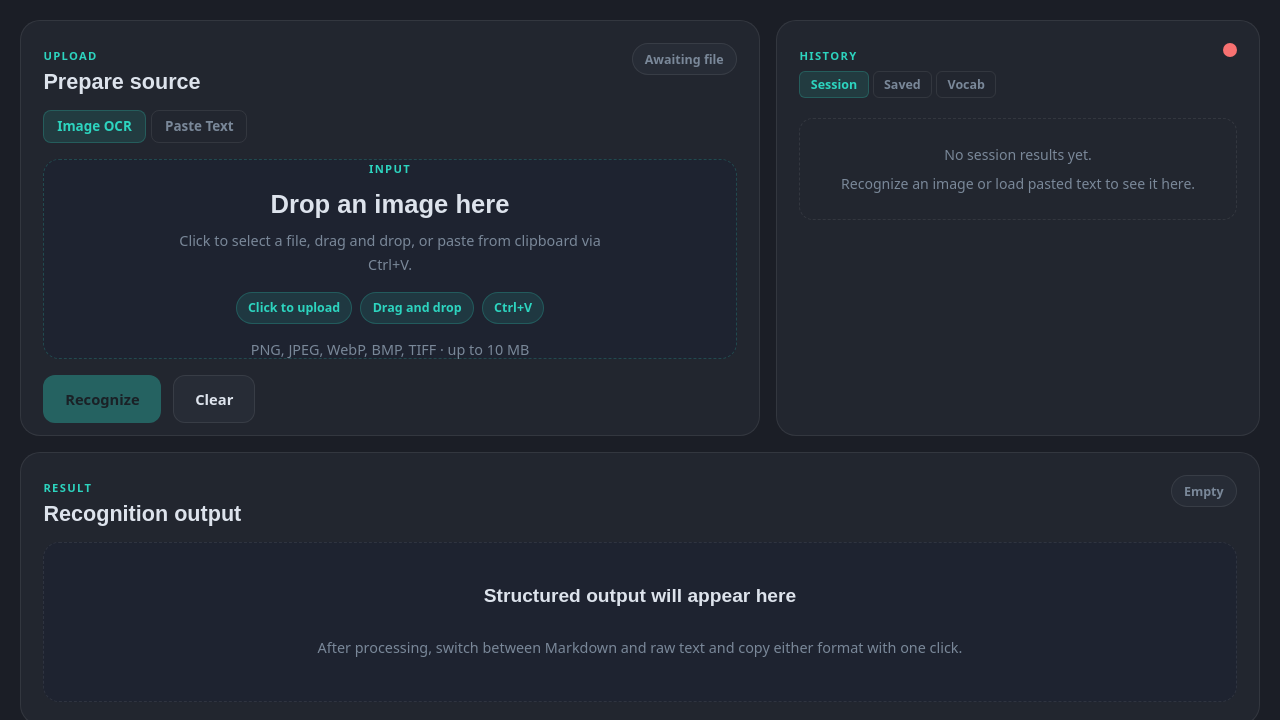
Scenario: App › switches back to image mode from text mode
Click the tab "Paste Text".
click(199, 126)  # box [151,110,247,143]
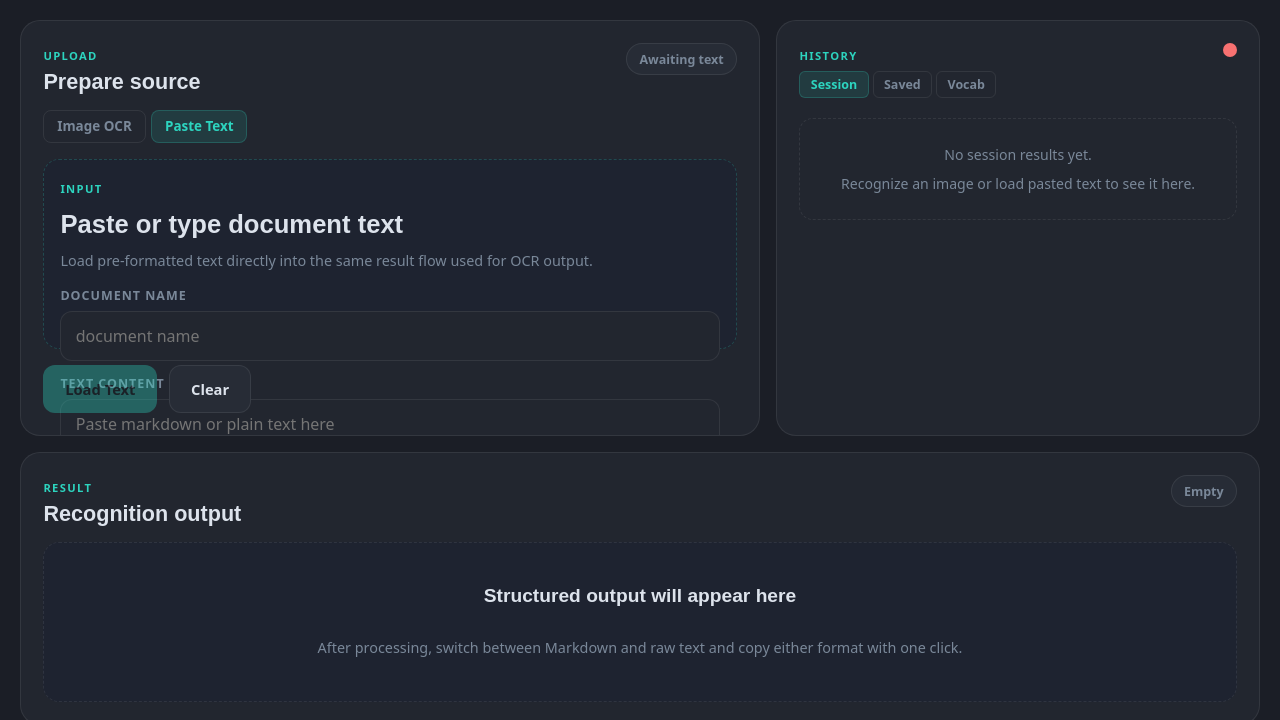
Click the tab "Image OCR".
click(94, 126)  # box [43,110,146,143]
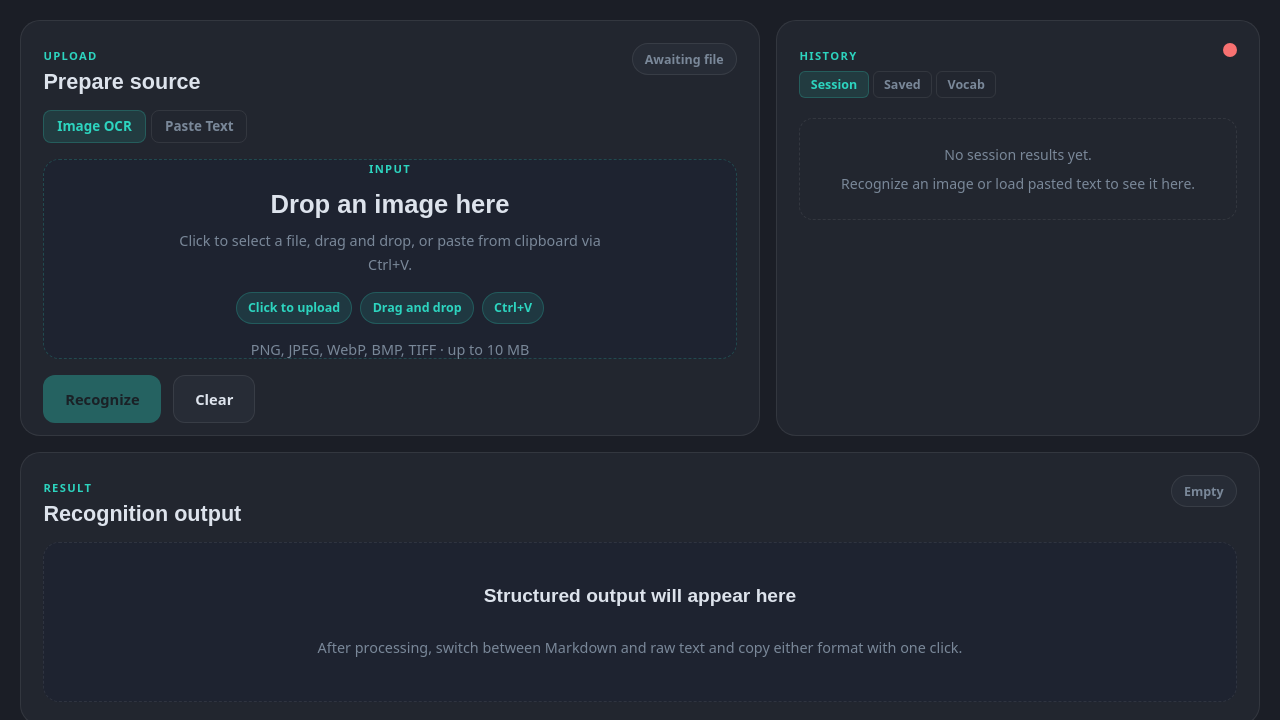
Now the button "Recognize" is shown, box [43,375,161,423]
